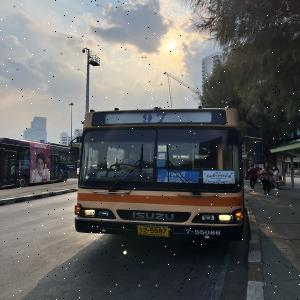BMTA-bus: (74, 107, 248, 242)
Bus Line Number: (139, 111, 170, 125)
Bus Side Number: (183, 228, 223, 237)
Destination Sign: (156, 169, 199, 184)
TSB-Bus: (0, 138, 74, 188)
